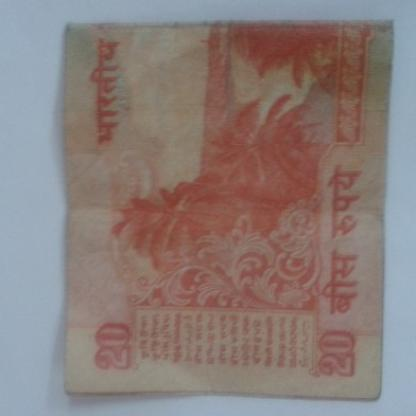Old20Back: (60, 19, 378, 395)
